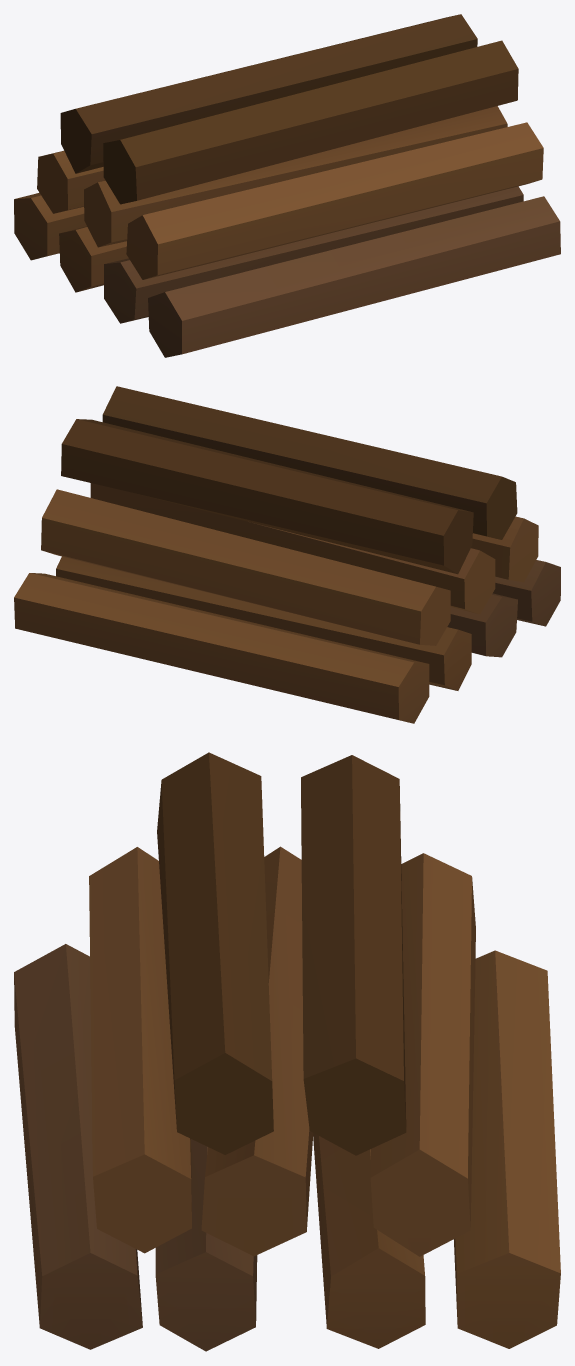
The model's file is woodpile.glb.
3 views of the same model, one above another, from view 1: azimuth 30°, elevation 25°; view 2: azimuth 150°, elevation 25°; view 3: azimuth 270°, elevation 25° (orthographic). The views are drawn at different scales.
Parts seen in each view (by area): view 1: base; view 2: base; view 3: base.
Boxes of the visible parts, x1,y1,x2,y2 form: base: [14, 14, 560, 357]; base: [14, 386, 560, 723]; base: [14, 752, 560, 1351].
Bounding box in the file's own units: 0.4021 × 0.185 × 0.3058.
